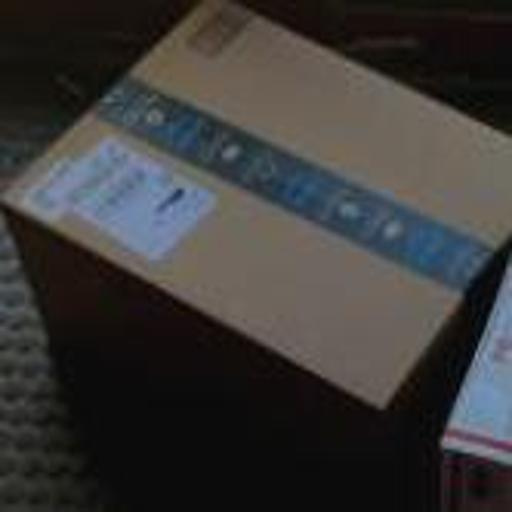Amazon: (19, 2, 510, 393)
Other: (439, 253, 512, 503)
